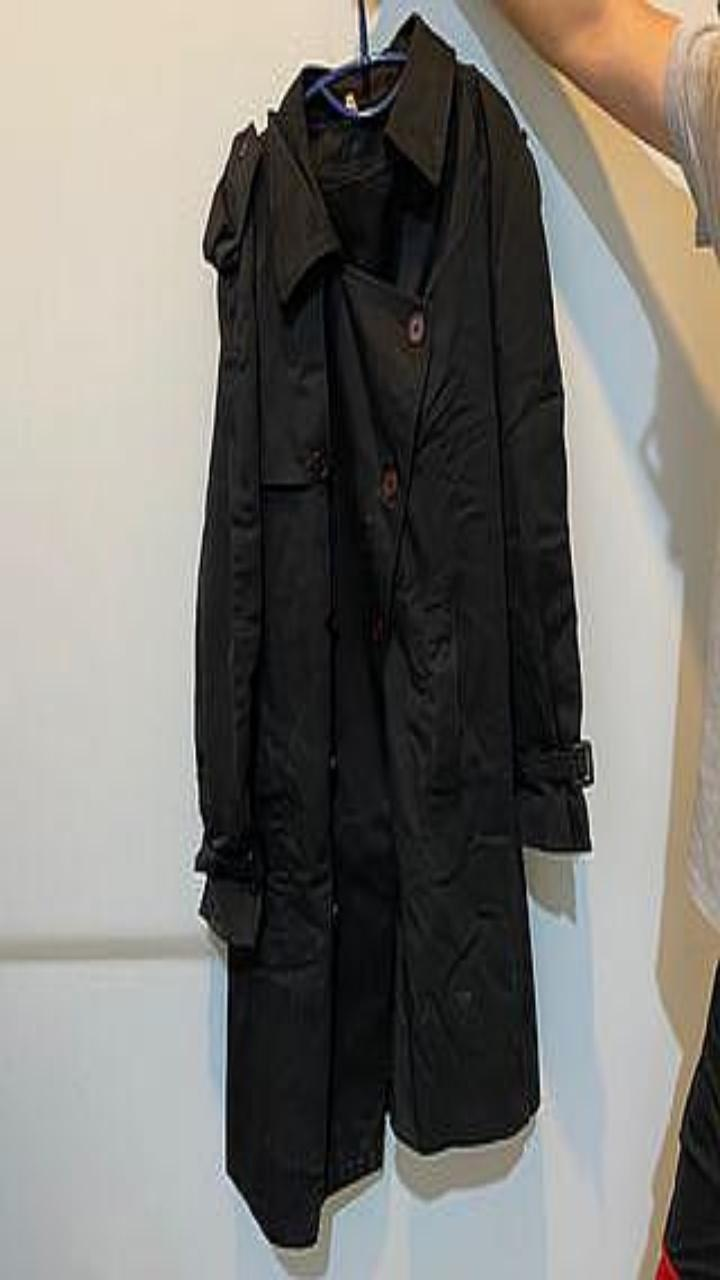Coat: (195, 13, 591, 1246)
T-Shirt: (689, 544, 719, 928)
